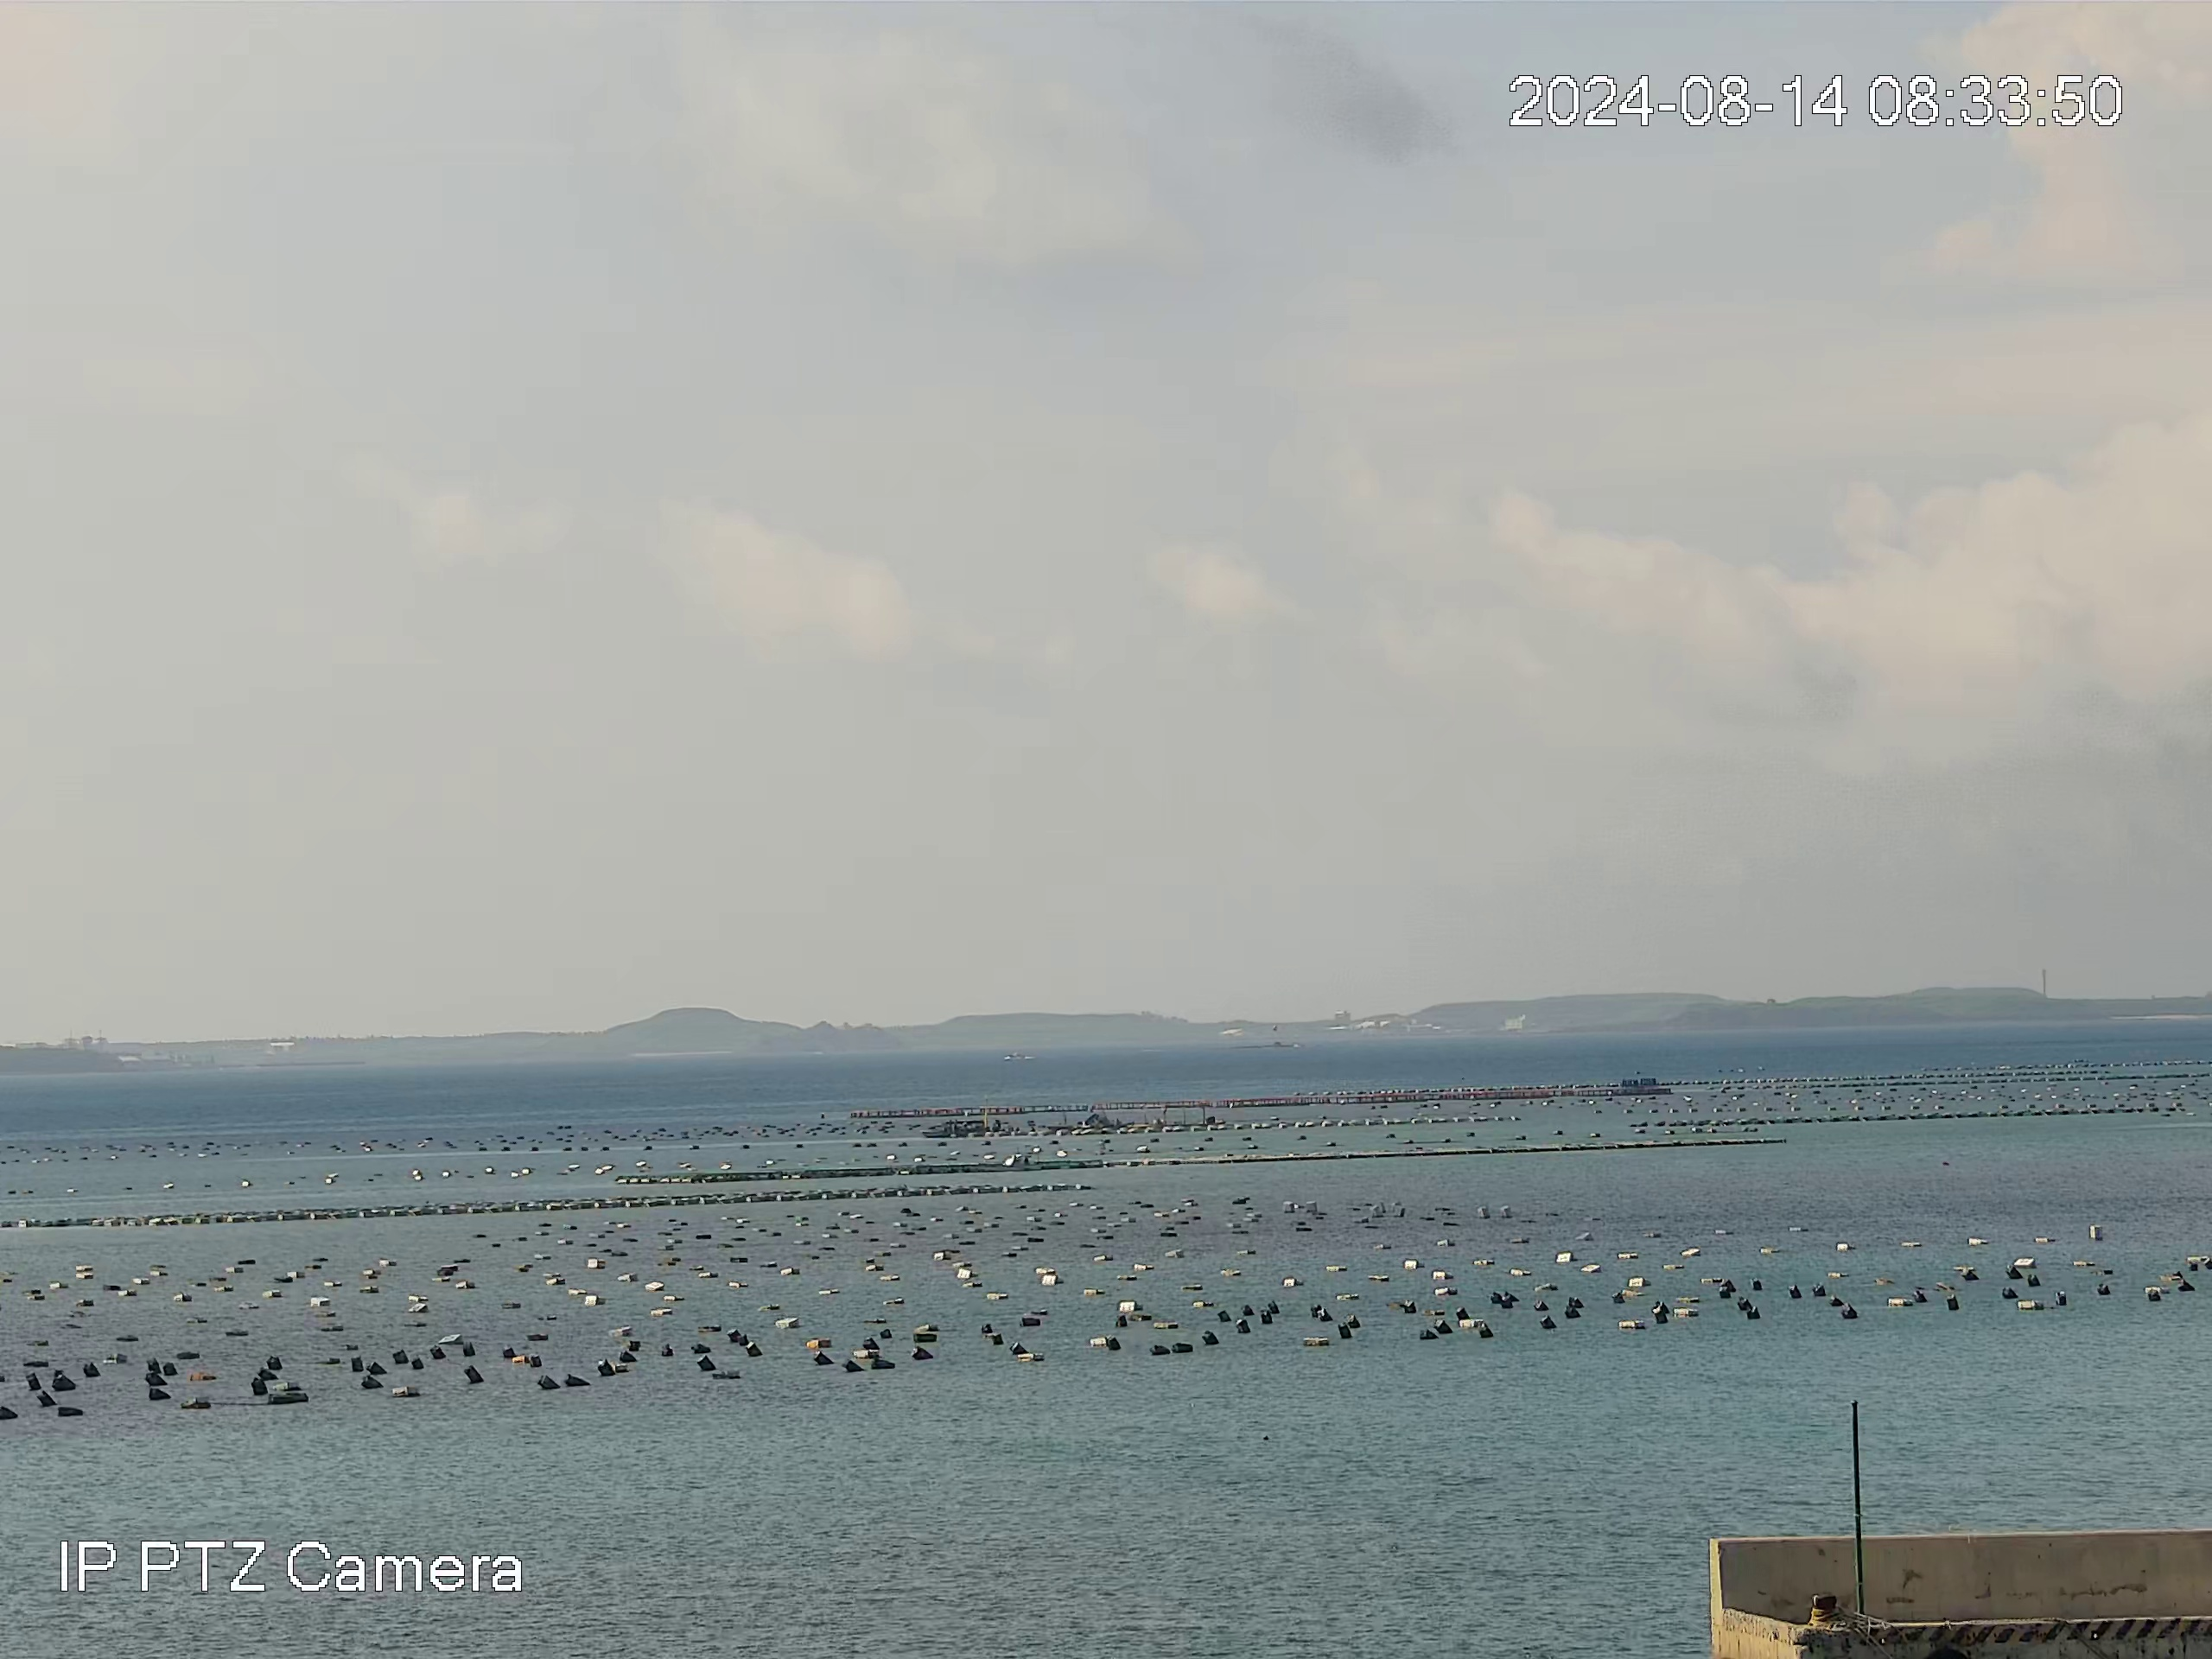boat: (923, 1117, 996, 1138)
